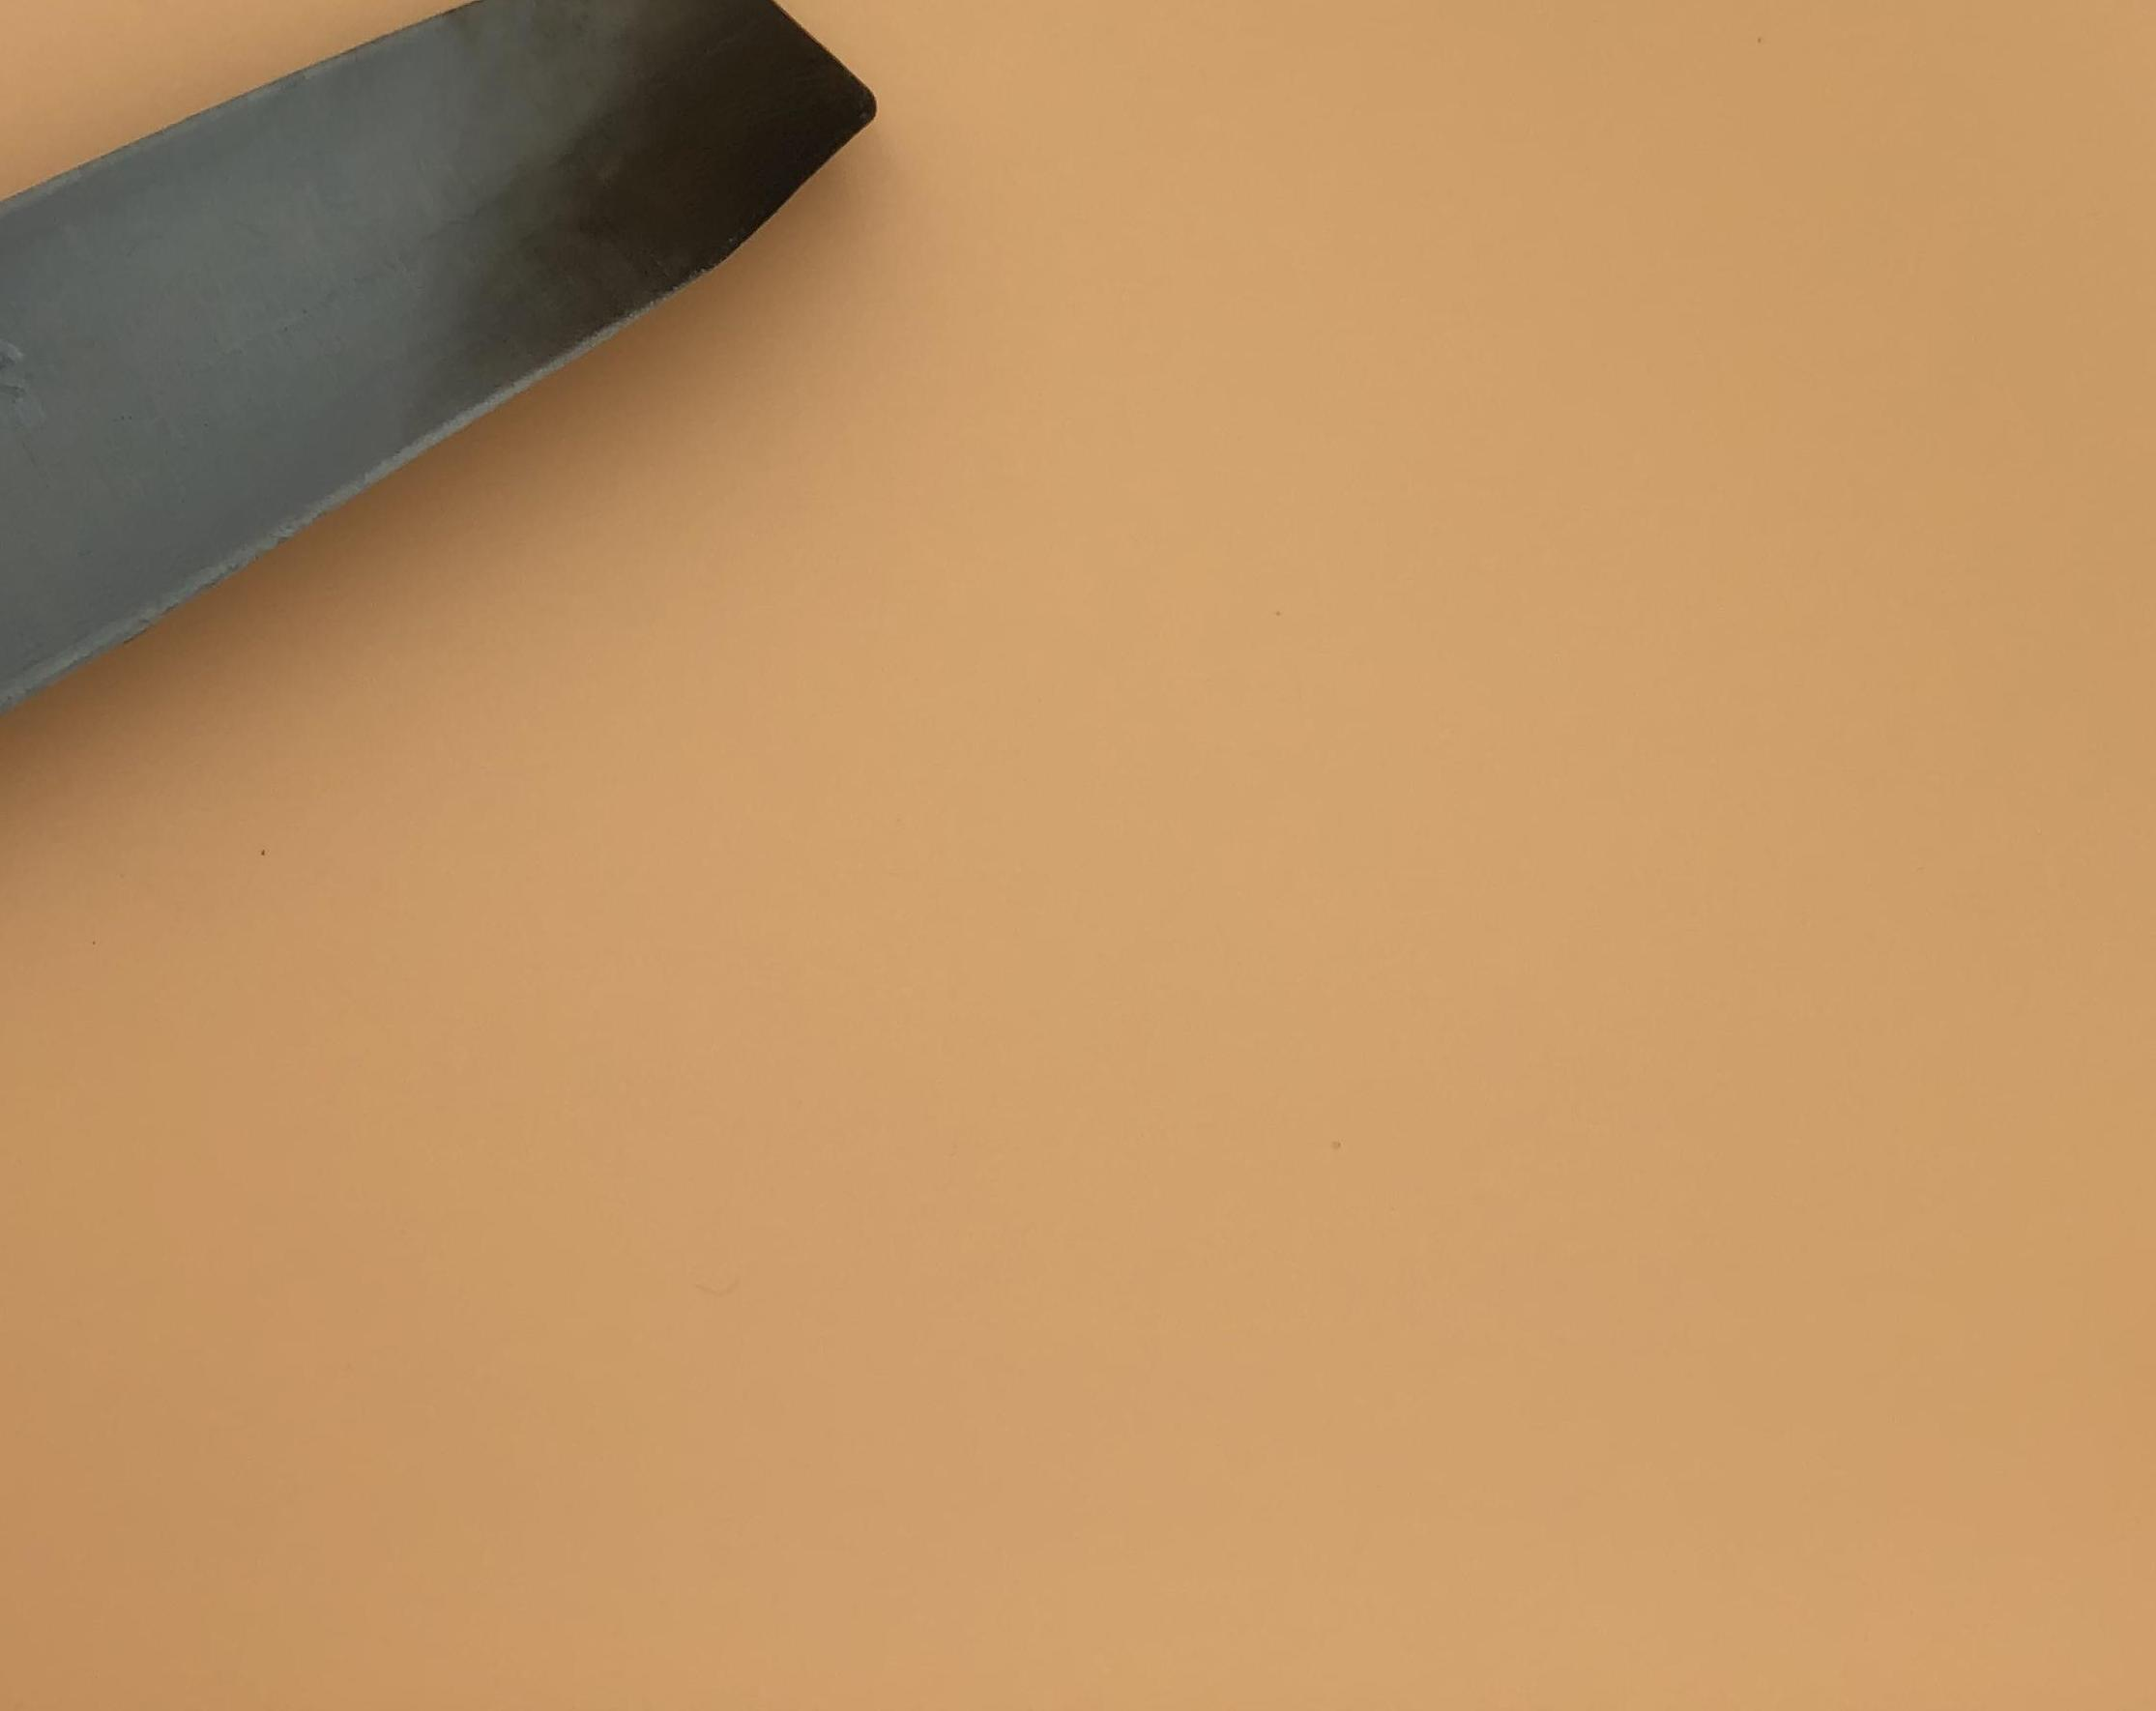ablation: (597, 16, 817, 206)
